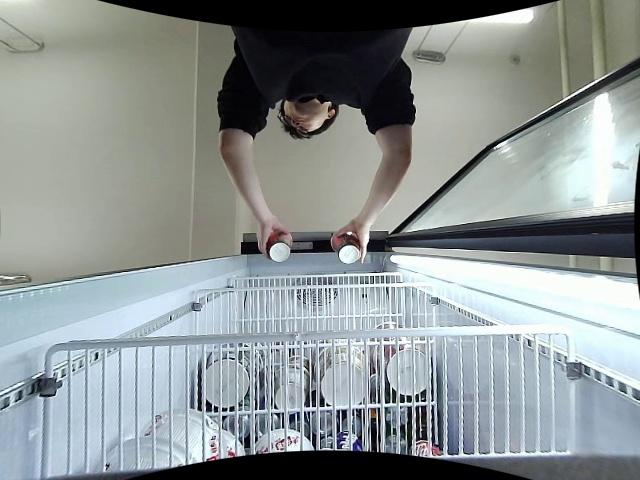00_hand: (333, 220, 370, 265), (257, 217, 291, 259)
02_shinRamen_S: (329, 233, 361, 264), (268, 230, 292, 263)
